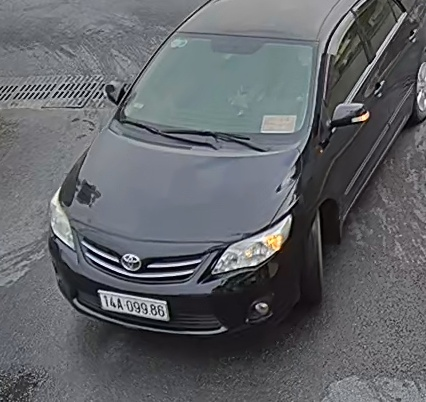vehicle plate: (94, 285, 173, 322)
